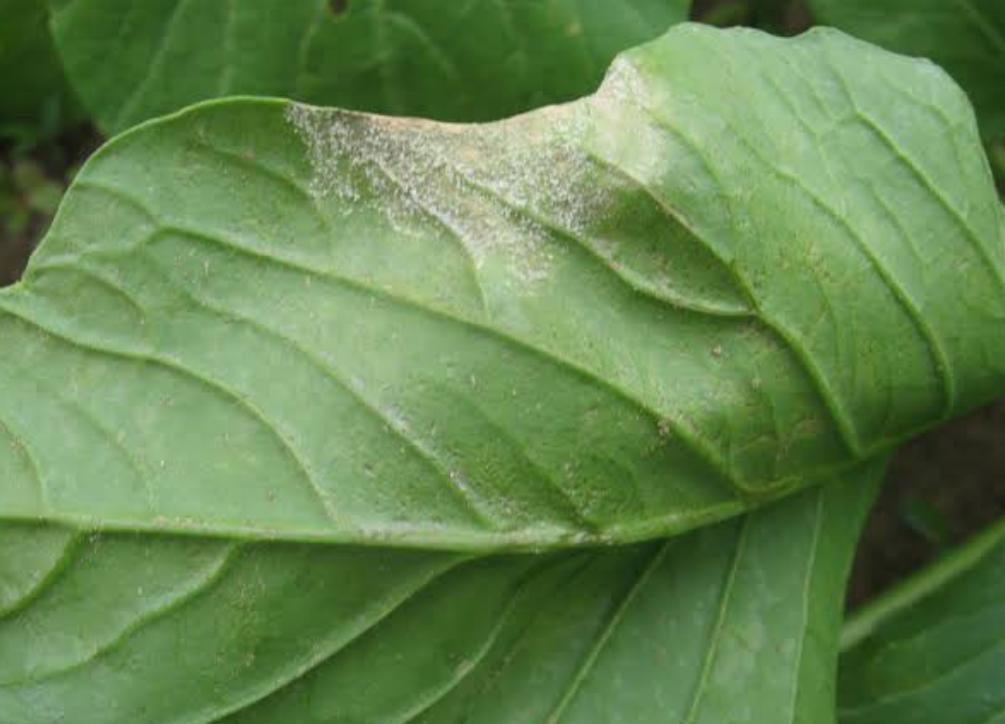Bok-Choy-Diseased: (89, 42, 842, 482)
